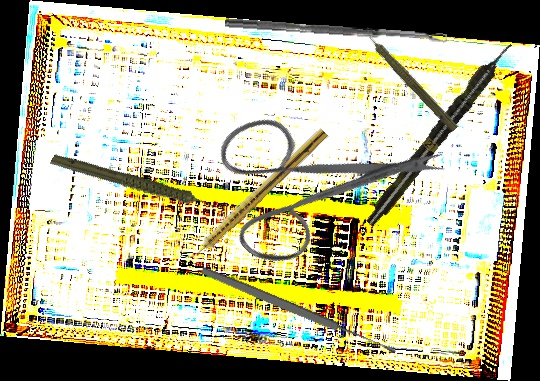Handpiece: (361, 38, 519, 230), (49, 122, 218, 248), (184, 124, 329, 266), (358, 24, 463, 134)
Iris Scissors: (178, 36, 455, 314)
Surgical Spoon: (199, 264, 398, 358), (224, 18, 448, 44)
